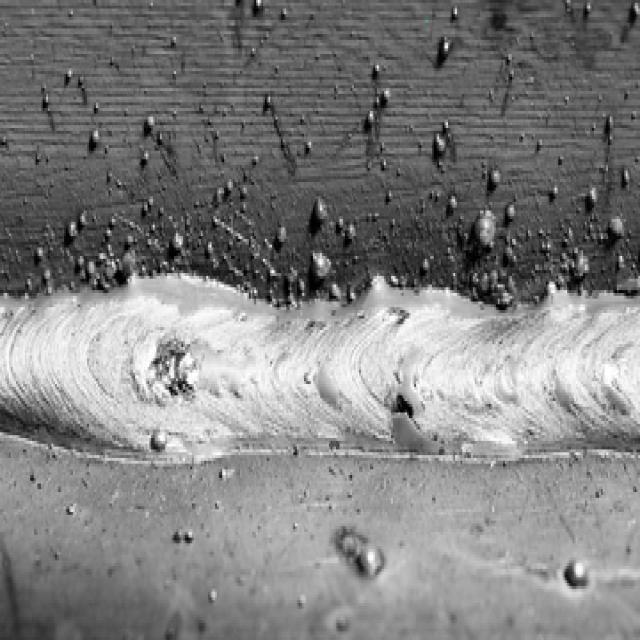Good Welding: (420, 292, 634, 450), (197, 282, 384, 446), (0, 290, 151, 455)
Porosity: (148, 333, 198, 404), (381, 387, 422, 427)
Spatters: (355, 55, 401, 152), (472, 213, 502, 259), (562, 558, 590, 597), (309, 198, 334, 235), (438, 30, 458, 74), (306, 249, 334, 280), (580, 183, 599, 212), (138, 114, 158, 140), (89, 123, 105, 148), (138, 149, 156, 169), (612, 216, 624, 241)
